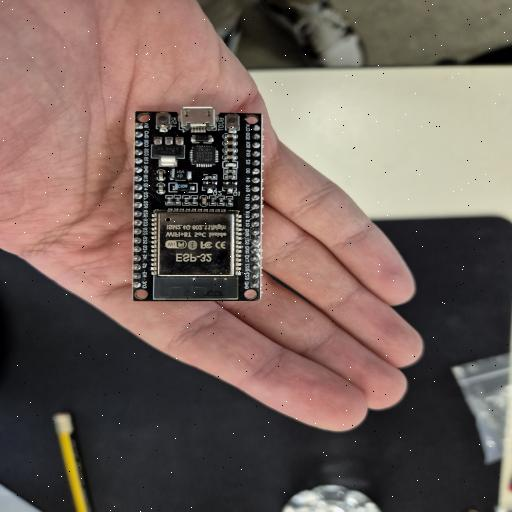esp32-dev: (133, 107, 262, 301)
